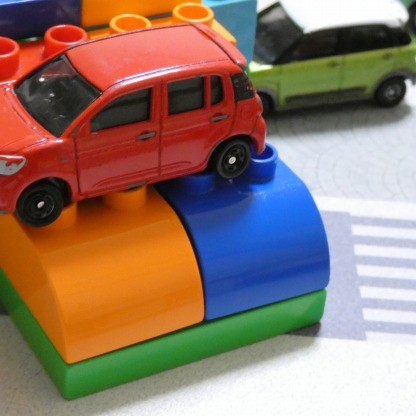car: (0, 24, 267, 226), (221, 0, 415, 127)
